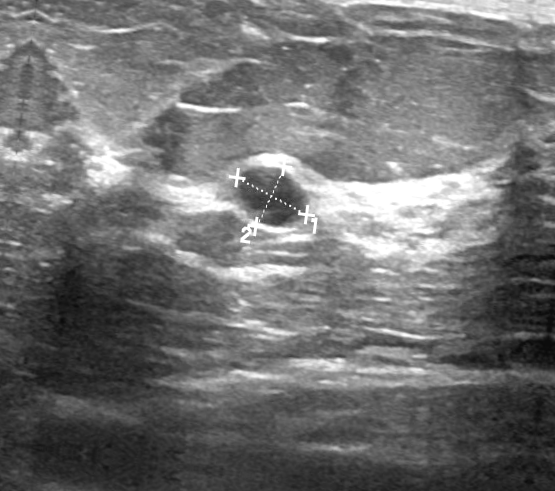Benign: (235, 161, 309, 228)
